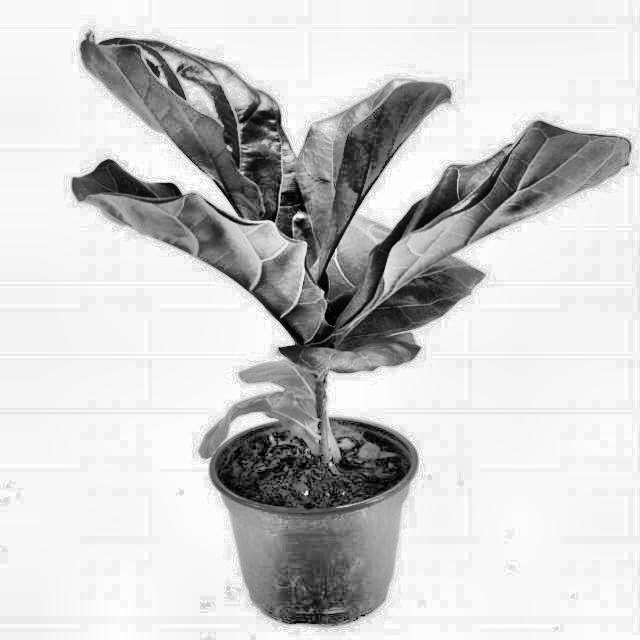plants: (97, 9, 588, 498)
